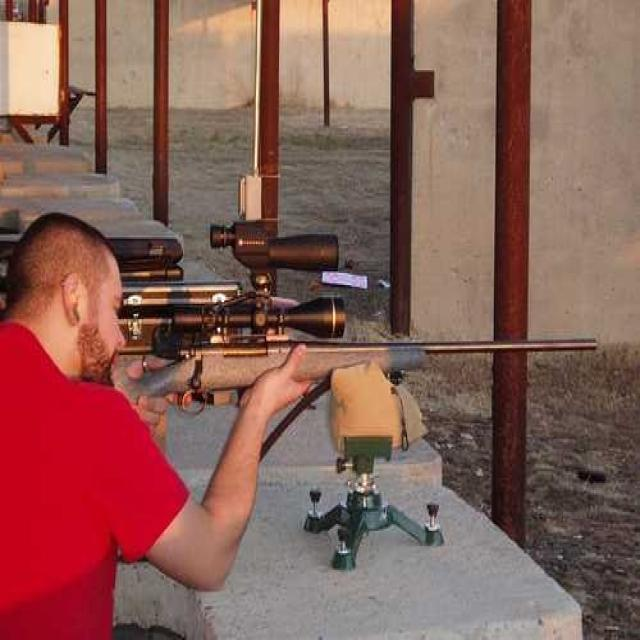heavyweapon: (133, 267, 617, 445)
